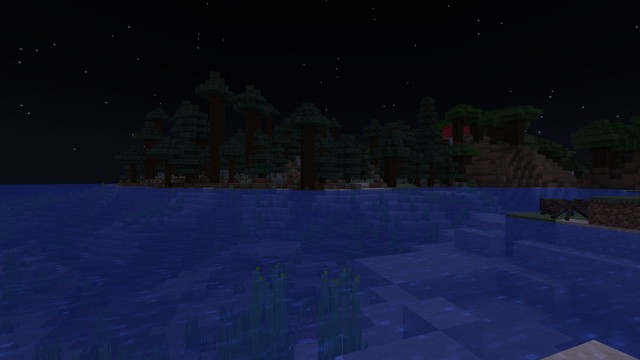araignees: (540, 195, 587, 221)
